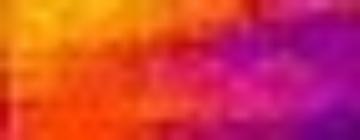Shadow: (218, 10, 360, 140)
